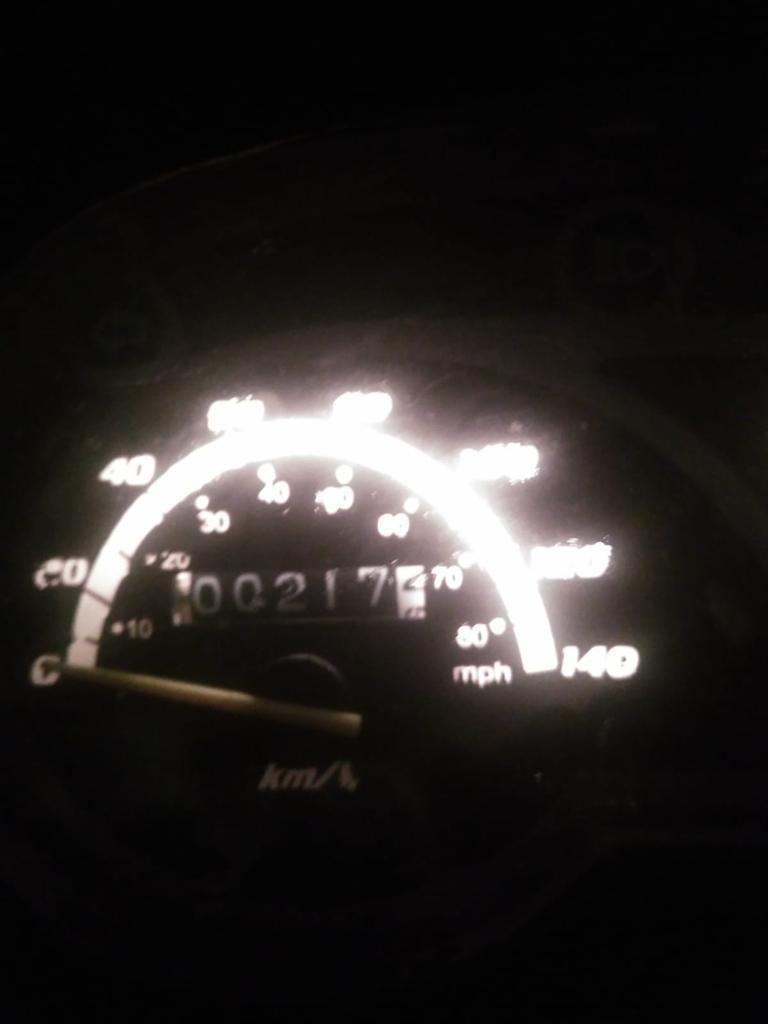0: (232, 571, 264, 614), (191, 575, 223, 615)
1: (323, 569, 338, 612)
2: (273, 570, 308, 613), (402, 561, 425, 593)
7: (356, 564, 389, 608)
odometer: (168, 561, 429, 627)
